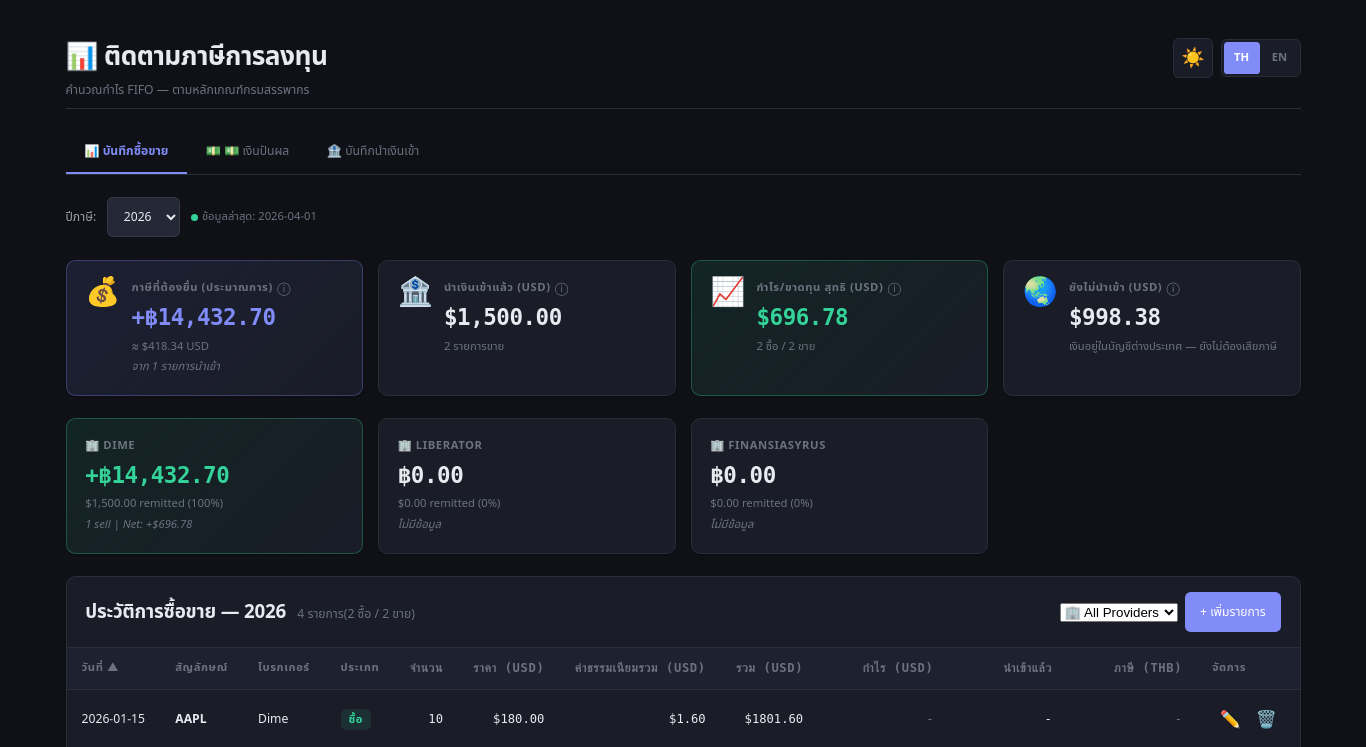
it: tab navigation placement › keeps the tab nav before the first dividend card after switching tabs
Click the button with class "tab-btn" showing "💵 💵 เงินปันผล" at (248, 152), box [187,131,308,174]
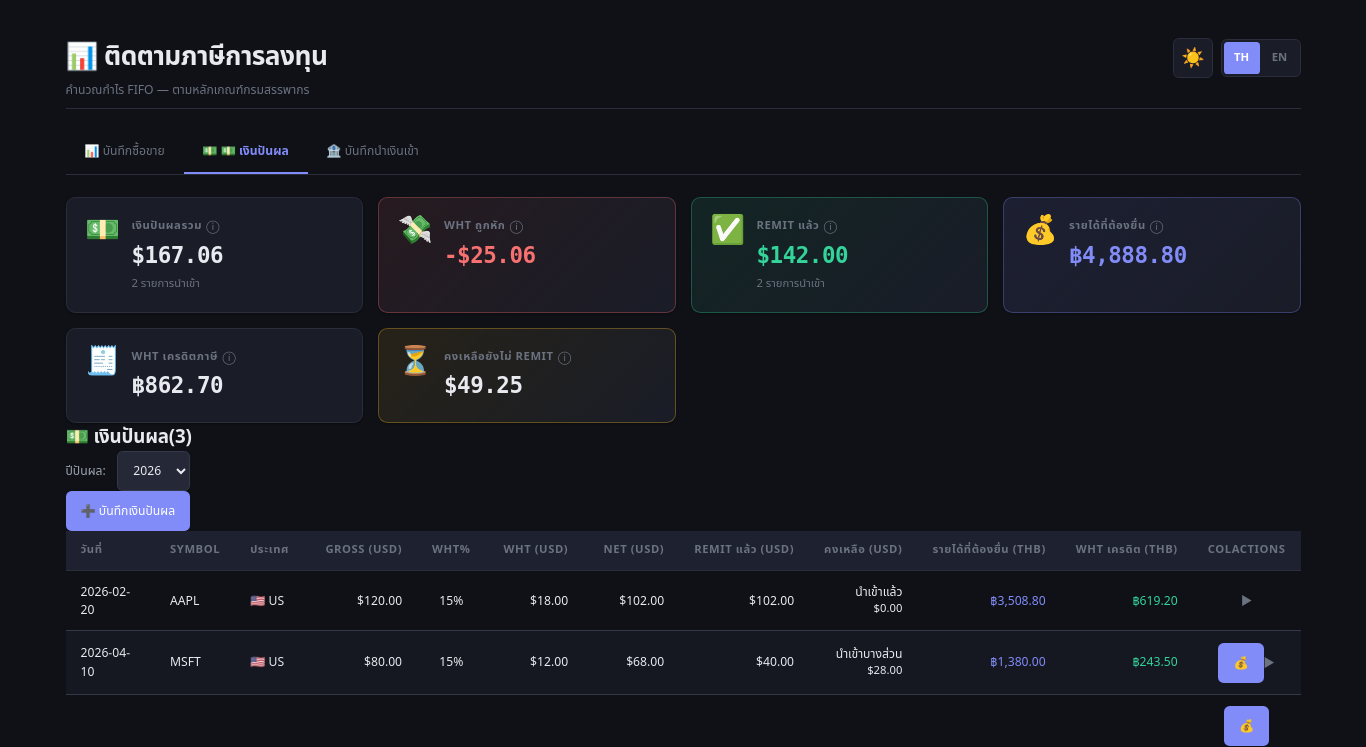
Expected: the element with class "kpi-card" is shown, [66,197,1300,423]
